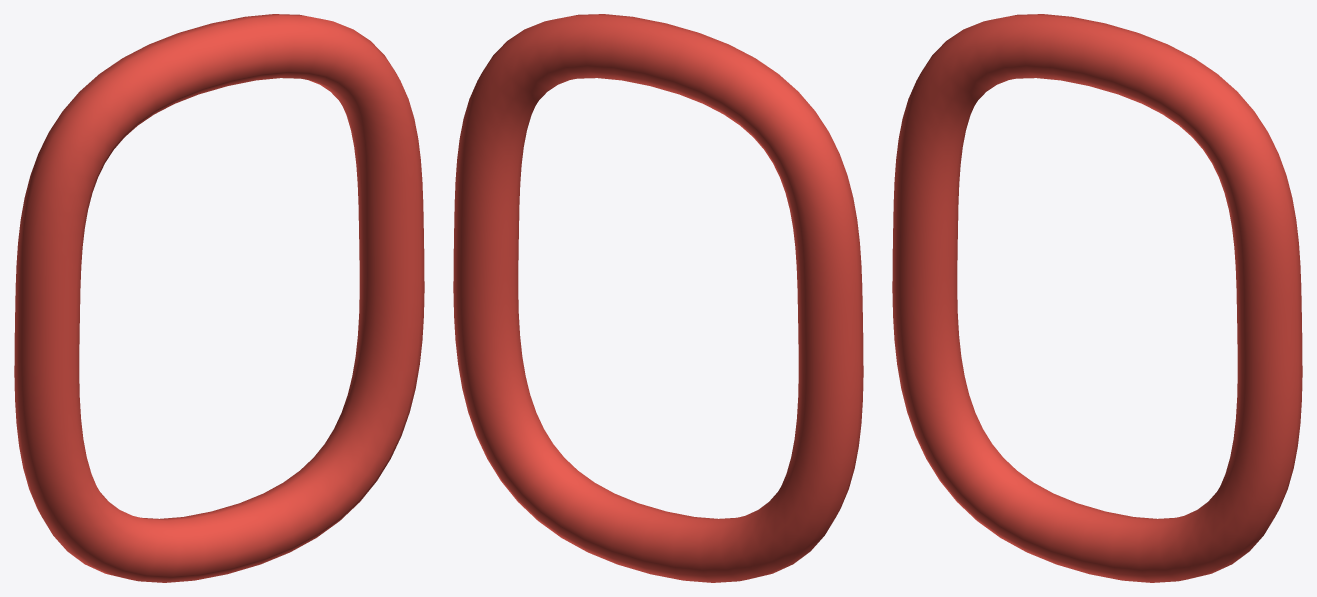
The model's file is RING.fbx.
3 views of the same model, side by side, from view 1: azimuth 30°, elevation 25°; view 2: azimuth 150°, elevation 25°; view 3: azimuth 330°, elevation 25° (orthographic).
Visible parts, largest first — view 1: BezierCircle.004; view 2: BezierCircle.004; view 3: BezierCircle.004.
Boxes of the visible parts, bbox=[...] form: BezierCircle.004: bbox=[14, 14, 424, 582]; BezierCircle.004: bbox=[453, 14, 863, 582]; BezierCircle.004: bbox=[892, 14, 1302, 582].
Bounding box in the file's own units: 1425 × 1856 × 199.
